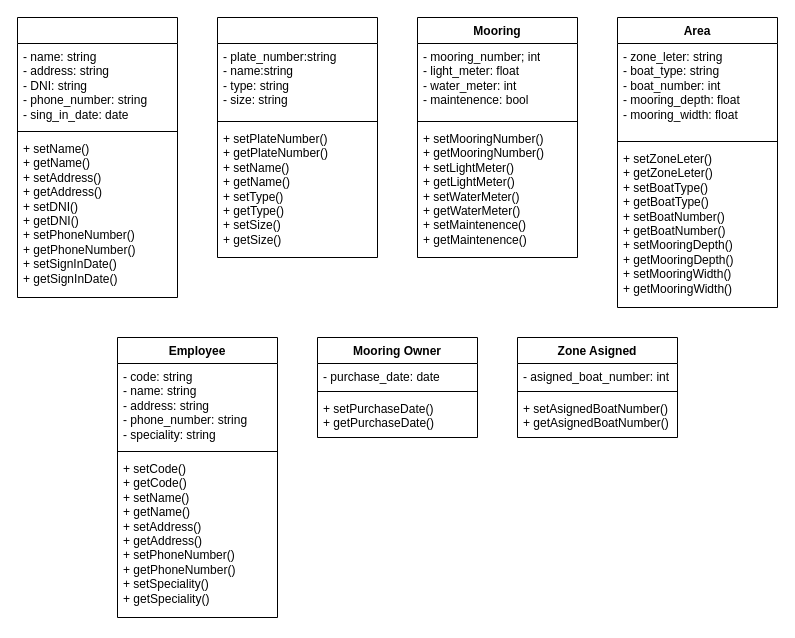
Image size: 795x638. Some labels were removed from this diagram. Each missing label, with the box of its shape:
Boats: (216, 16, 378, 258)
Members: (16, 16, 178, 298)
